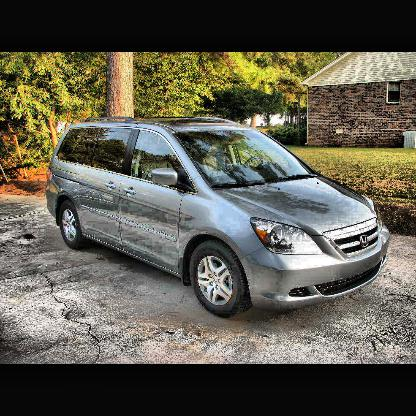Honda Odyssey Minivan 2007: (46, 116, 393, 312)
